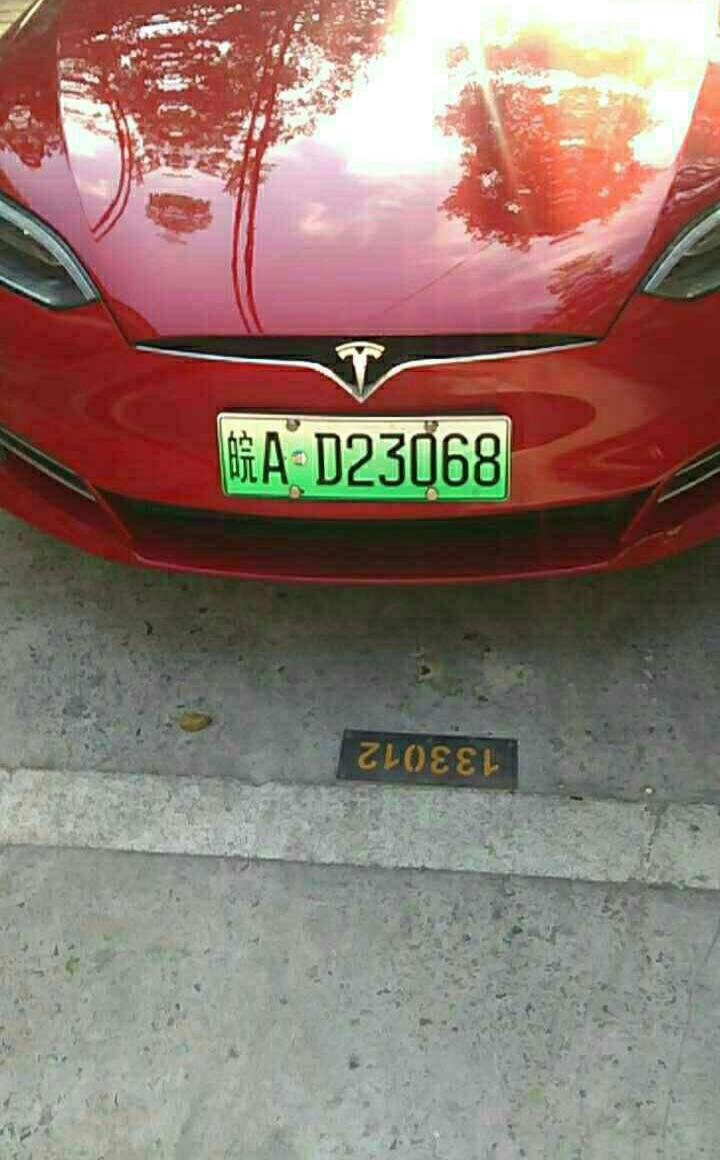car_green: (213, 407, 518, 507)
